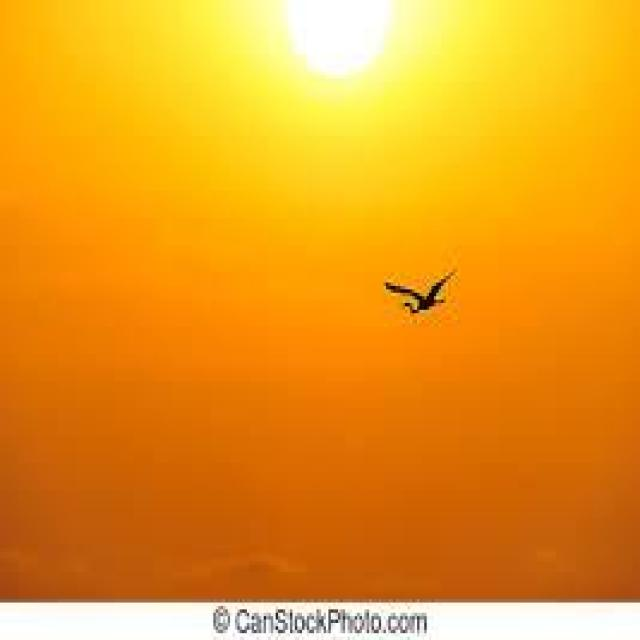bird: (372, 262, 459, 325)
